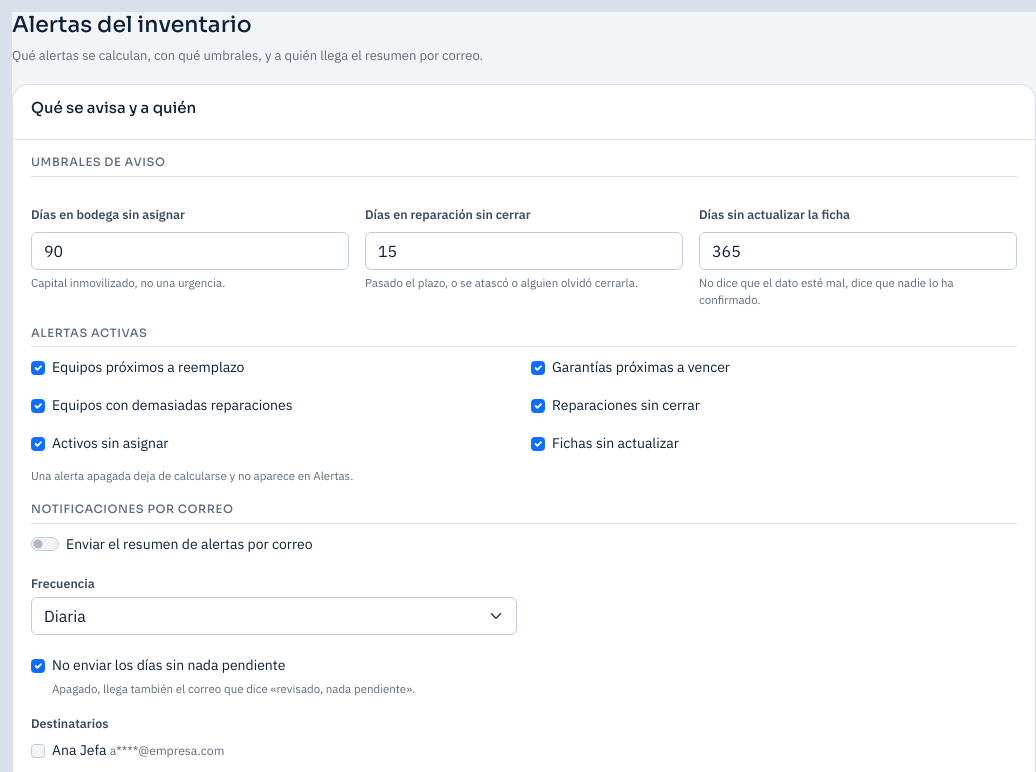
Test case: Notificaciones por correo del centro de alertas › pregunta el día solo cuando el envío es semanal
Expected: the heading "Qué se avisa y a quién" is shown, x1=31 y1=99 x2=196 y2=117
Expected: the text "Ana Jefa" is shown, x1=52 y1=741 x2=106 y2=759
Select "Semanal" in the dropdown labelled "Frecuencia". click: [274, 616]
box: x1=31 y1=597 x2=517 y2=635
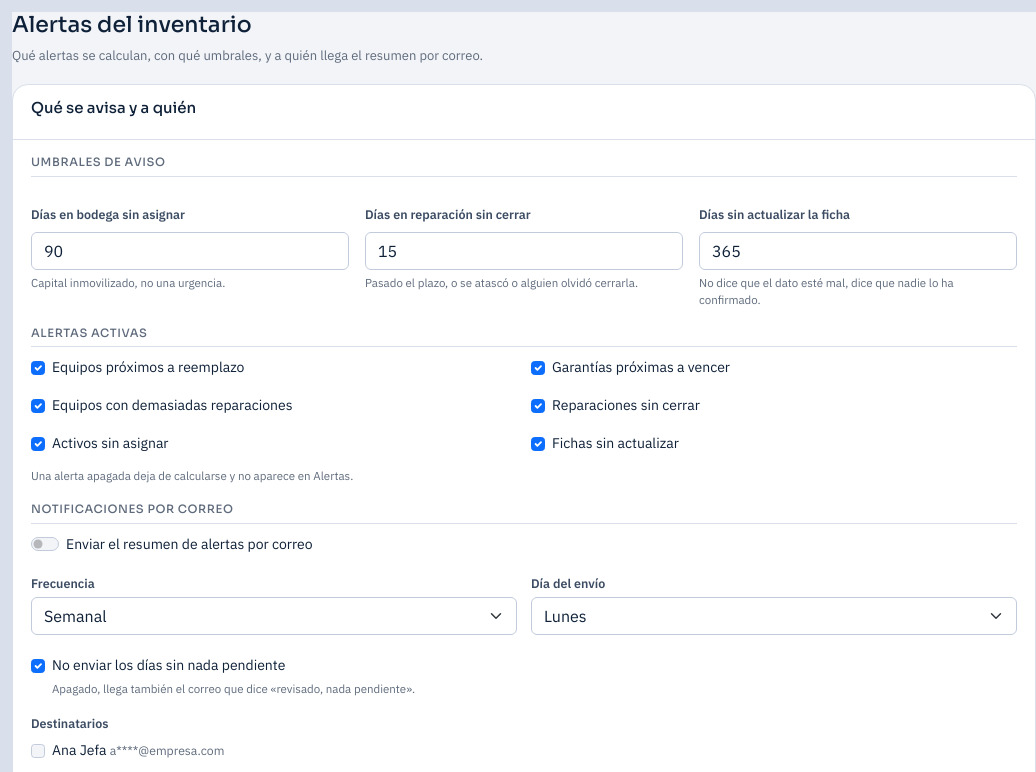
Result: the dropdown labelled "Día del envío" is shown at x1=531 y1=597 x2=1017 y2=635
